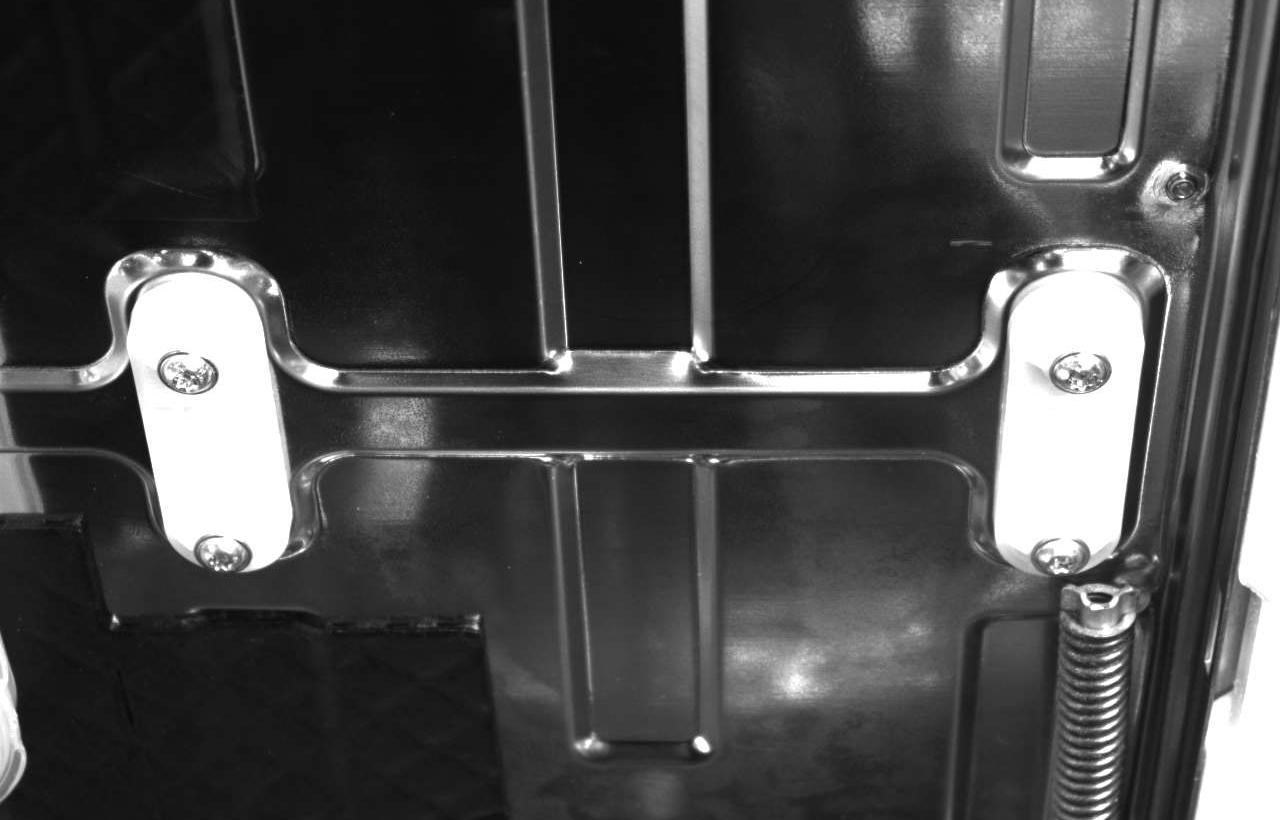vida-ok: (141, 336, 227, 413), (1031, 329, 1119, 402), (187, 512, 264, 577), (1025, 521, 1100, 580)
